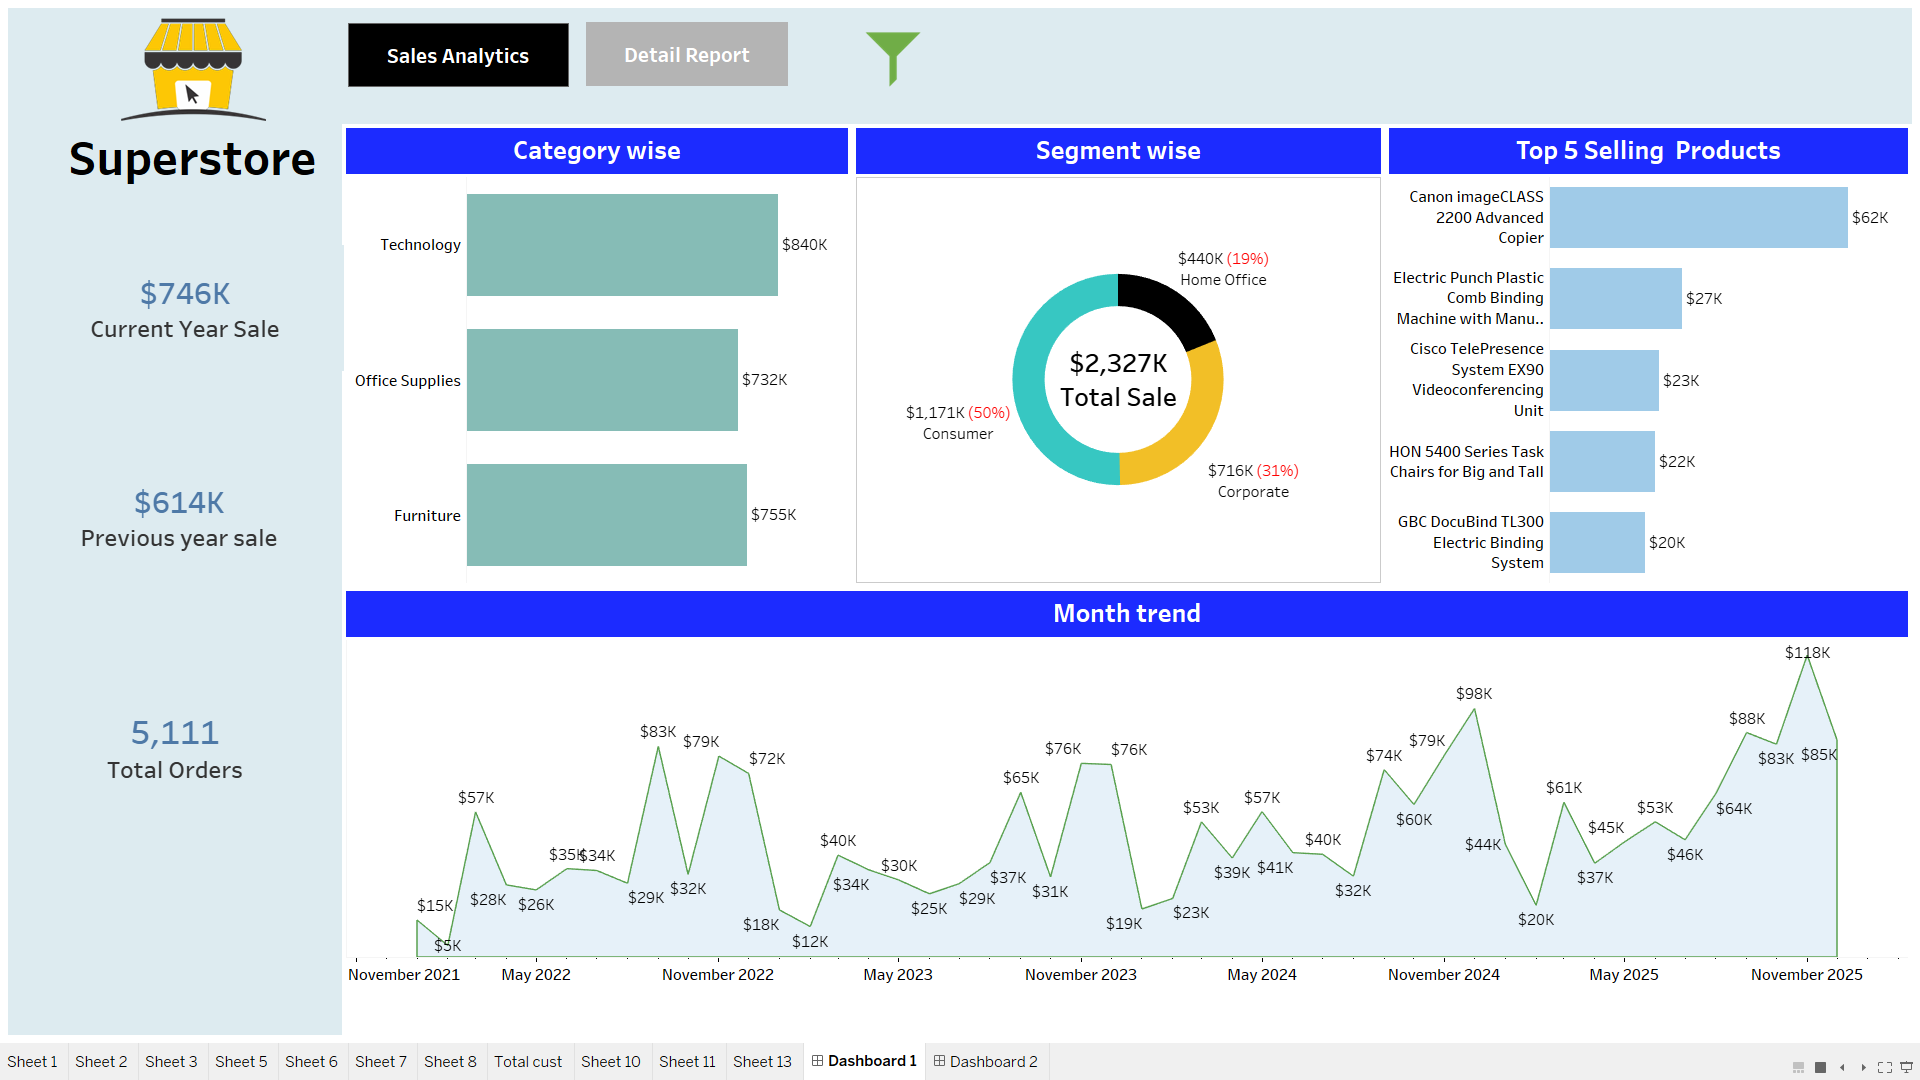

The page's visual inventory and layout, read from the dashboard file:
{"tool":"tableau","page":{"name":"Dashboard 1","canvas":[1000,1000],"units":"permille","ordinal":0},"visuals":[{"type":"image","param":"Image/Picture1.png","box":[3.6,16.4,188.3,102.2]},{"type":"filter","title":"Sheet 5","param":"[federated.1qe1g7v0mrscw3154g8tx0mx9xl9].[none:Category:nk]","box":[402.2,18.8,239.7,48.2]},{"type":"dashboard-object","box":[416.3,21.2,41,70.5]},{"type":"dashboard-object","box":[181.1,22.3,115.3,61.1]},{"type":"dashboard-object","box":[303,23.5,105,61.1]},{"type":"filter","title":"Sheet 8","param":"[federated.1qe1g7v0mrscw3154g8tx0mx9xl9].[yr:Calculation_546061509436616704:ok]","box":[402.2,67,239.7,52.9]},{"type":"text","box":[1.2,118.7,190.1,63.5]},{"type":"filter","title":"Sheet 7","param":"[federated.1qe1g7v0mrscw3154g8tx0mx9xl9].[none:Region:nk]","box":[402.2,119.9,239.7,54.1]},{"type":"worksheet","title":"Sheet 5","mark":"Automatic","rows":["Category"],"cols":["Sales"],"box":[178.9,120.5,265.3,441.9]},{"type":"worksheet","title":"Sheet 7","mark":"Pie","rows":["Calculation_1239615852371726341","Calculation_1239615852371734535"],"box":[444.2,120.5,277.1,441.9]},{"type":"worksheet","title":"Sheet 6","mark":"Automatic","rows":["Product Name"],"cols":["Sales"],"box":[721.3,120.5,273.9,441.9]},{"type":"worksheet","title":"Sheet 1","mark":"Automatic","box":[12.8,235,166.3,121]},{"type":"worksheet","title":"Sheet 2","mark":"Automatic","box":[12.7,365.4,163.6,179.8]},{"type":"worksheet","title":"Sheet 3","mark":"Automatic","box":[12.7,526.4,161.1,156.3]},{"type":"worksheet","title":"Sheet 8","mark":"Area","rows":["Sales"],"cols":["Calculation_546061509436616704"],"box":[178.9,562.4,816.3,428.2]},{"type":"worksheet","title":"YOY","mark":"Automatic","box":[10.3,710.9,164.8,125.7]}]}

Visuals, with their boxes on the dashboard's canvas, which has no fixed pixel size, in thousandths of its width and height (x1, y1, x2, y2). These are canvas units, not pixel positions in the 1920x1080 screenshot, which may show the page scaled, cropped or inside an application window:
image: box=[4, 16, 192, 119]
"Sheet 5" filter: box=[402, 19, 642, 67]
dashboard-object: box=[416, 21, 457, 92]
dashboard-object: box=[181, 22, 296, 83]
dashboard-object: box=[303, 24, 408, 85]
"Sheet 8" filter: box=[402, 67, 642, 120]
text: box=[1, 119, 191, 182]
"Sheet 7" filter: box=[402, 120, 642, 174]
"Sheet 5" worksheet: box=[179, 120, 444, 562]
"Sheet 7" worksheet (Pie marks): box=[444, 120, 721, 562]
"Sheet 6" worksheet: box=[721, 120, 995, 562]
"Sheet 1" worksheet: box=[13, 235, 179, 356]
"Sheet 2" worksheet: box=[13, 365, 176, 545]
"Sheet 3" worksheet: box=[13, 526, 174, 683]
"Sheet 8" worksheet (Area marks): box=[179, 562, 995, 991]
"YOY" worksheet: box=[10, 711, 175, 837]
